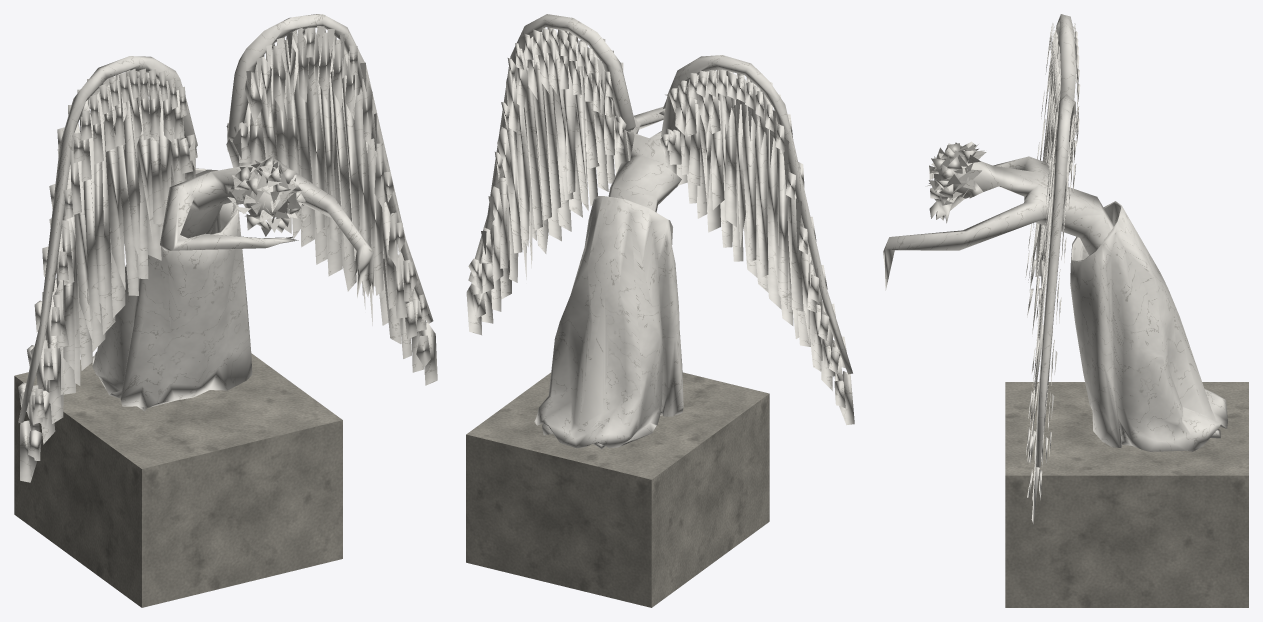
The model's file is angelito_lod.obj.
The picture shows the model from 3 angles, left to right: view 1: azimuth 30°, elevation 25°; view 2: azimuth 150°, elevation 25°; view 3: azimuth 270°, elevation 25°; orthographic projection. The views are drawn at different scales.
Visible parts, largest first — view 1: Angel_Alas, Pedestal, Angel_Tunica, Angel_Cuerpo; view 2: Angel_Alas, Pedestal, Angel_Tunica, Angel_Cuerpo; view 3: Pedestal, Angel_Tunica, Angel_Alas, Angel_Cuerpo.
Boxes of the visible parts, left/top/right/bottom form: Angel_Alas: left=18, top=14, right=437, bottom=482; Pedestal: left=14, top=353, right=342, bottom=607; Angel_Tunica: left=92, top=168, right=252, bottom=411; Angel_Cuerpo: left=160, top=156, right=373, bottom=297; Angel_Alas: left=466, top=14, right=854, bottom=424; Pedestal: left=466, top=372, right=769, bottom=607; Angel_Tunica: left=534, top=196, right=683, bottom=448; Angel_Cuerpo: left=542, top=75, right=698, bottom=449; Pedestal: left=1005, top=382, right=1248, bottom=607; Angel_Tunica: left=1070, top=201, right=1227, bottom=451; Angel_Alas: left=1025, top=14, right=1080, bottom=524; Angel_Cuerpo: left=883, top=141, right=1220, bottom=438.
Size of the model in its own units: 2.08 by 2.49 by 1.65.
2 materials, 2 textured.
